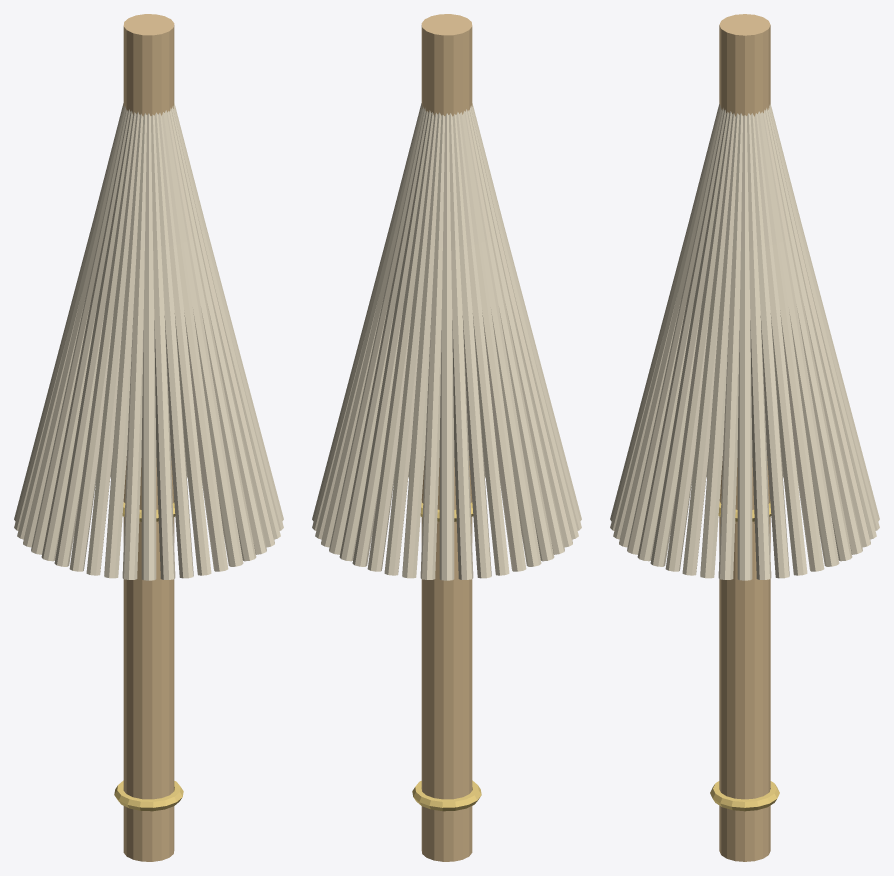
The model's file is shinji_haraegushi.glb.
The picture shows the model from 3 angles, left to right: view 1: azimuth 30°, elevation 25°; view 2: azimuth 150°, elevation 25°; view 3: azimuth 270°, elevation 25°; orthographic projection.
Parts seen in each view (by area): view 1: Ritual gohei wooden shaft, Haraegushi white purification fibre_01.028, Haraegushi white purification fibre_01.027, Haraegushi white purification fibre_01.029, Haraegushi white purification fibre_01.026, Haraegushi white purification fibre_01.030, Haraegushi white purification fibre_01.025, Haraegushi white purification fibre_01.031, Haraegushi white purification fibre_01.024, Haraegushi white purification fibre_01.032, Haraegushi white purification fibre_01.023, Haraegushi white purification fibre_01.033 (+27 smaller); view 2: Ritual gohei wooden shaft, Haraegushi white purification fibre_01.014, Haraegushi white purification fibre_01.013, Haraegushi white purification fibre_01.015, Haraegushi white purification fibre_01.012, Haraegushi white purification fibre_01.016, Haraegushi white purification fibre_01.011, Haraegushi white purification fibre_01.017, Haraegushi white purification fibre_01.010, Haraegushi white purification fibre_01.018, Haraegushi white purification fibre_01.009, Haraegushi white purification fibre_01.019 (+27 smaller); view 3: Ritual gohei wooden shaft, Haraegushi white purification fibre_01, Haraegushi white purification fibre_01.001, Haraegushi white purification fibre_01.041, Haraegushi white purification fibre_01.002, Haraegushi white purification fibre_01.040, Haraegushi white purification fibre_01.003, Haraegushi white purification fibre_01.039, Haraegushi white purification fibre_01.004, Haraegushi white purification fibre_01.038, Haraegushi white purification fibre_01.005, Haraegushi white purification fibre_01.037 (+28 smaller).
Part boxes in pixels (<box>): Ritual gohei wooden shaft: <box>123,14,174,861</box>; Haraegushi white purification fibre_01.028: <box>141,247,156,580</box>; Haraegushi white purification fibre_01.027: <box>122,247,144,579</box>; Haraegushi white purification fibre_01.029: <box>153,247,175,579</box>; Haraegushi white purification fibre_01.026: <box>104,246,136,578</box>; Haraegushi white purification fibre_01.030: <box>161,246,193,578</box>; Haraegushi white purification fibre_01.025: <box>86,245,128,575</box>; Haraegushi white purification fibre_01.031: <box>169,245,211,575</box>; Haraegushi white purification fibre_01.024: <box>69,243,121,571</box>; Haraegushi white purification fibre_01.032: <box>176,243,228,571</box>; Haraegushi white purification fibre_01.023: <box>54,241,114,566</box>; Haraegushi white purification fibre_01.033: <box>183,241,243,566</box>; Ritual gohei wooden shaft: <box>421,14,472,861</box>; Haraegushi white purification fibre_01.014: <box>439,247,454,580</box>; Haraegushi white purification fibre_01.013: <box>420,247,442,579</box>; Haraegushi white purification fibre_01.015: <box>451,247,473,579</box>; Haraegushi white purification fibre_01.012: <box>402,246,434,578</box>; Haraegushi white purification fibre_01.016: <box>459,246,491,578</box>; Haraegushi white purification fibre_01.011: <box>384,245,426,575</box>; Haraegushi white purification fibre_01.017: <box>467,245,509,575</box>; Haraegushi white purification fibre_01.010: <box>367,243,419,571</box>; Haraegushi white purification fibre_01.018: <box>474,243,526,571</box>; Haraegushi white purification fibre_01.009: <box>352,241,412,566</box>; Haraegushi white purification fibre_01.019: <box>481,241,541,566</box>; Ritual gohei wooden shaft: <box>719,14,770,861</box>; Haraegushi white purification fibre_01: <box>737,248,752,580</box>; Haraegushi white purification fibre_01.001: <box>749,247,771,579</box>; Haraegushi white purification fibre_01.041: <box>718,247,740,579</box>; Haraegushi white purification fibre_01.002: <box>757,246,789,578</box>; Haraegushi white purification fibre_01.040: <box>700,246,732,578</box>; Haraegushi white purification fibre_01.003: <box>765,245,807,575</box>; Haraegushi white purification fibre_01.039: <box>682,245,724,575</box>; Haraegushi white purification fibre_01.004: <box>772,243,824,571</box>; Haraegushi white purification fibre_01.038: <box>665,243,717,571</box>; Haraegushi white purification fibre_01.005: <box>779,241,839,566</box>; Haraegushi white purification fibre_01.037: <box>650,241,710,566</box>.
Bounding box in the file's own units: 0.5789 × 1.95 × 0.5772.
